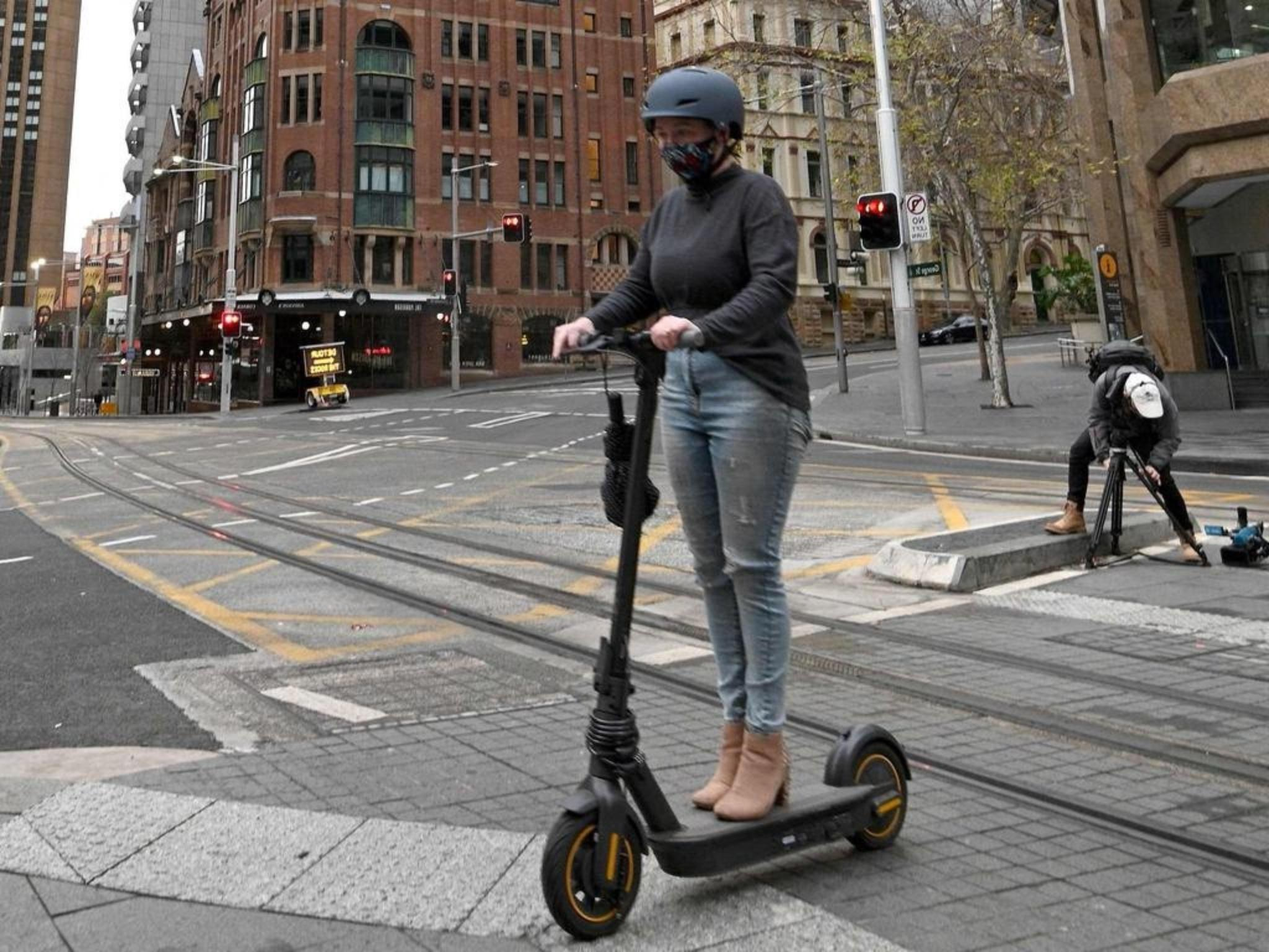helmet: (609, 58, 788, 193)
human: (556, 70, 816, 826)
kickboard: (541, 736, 913, 938)
